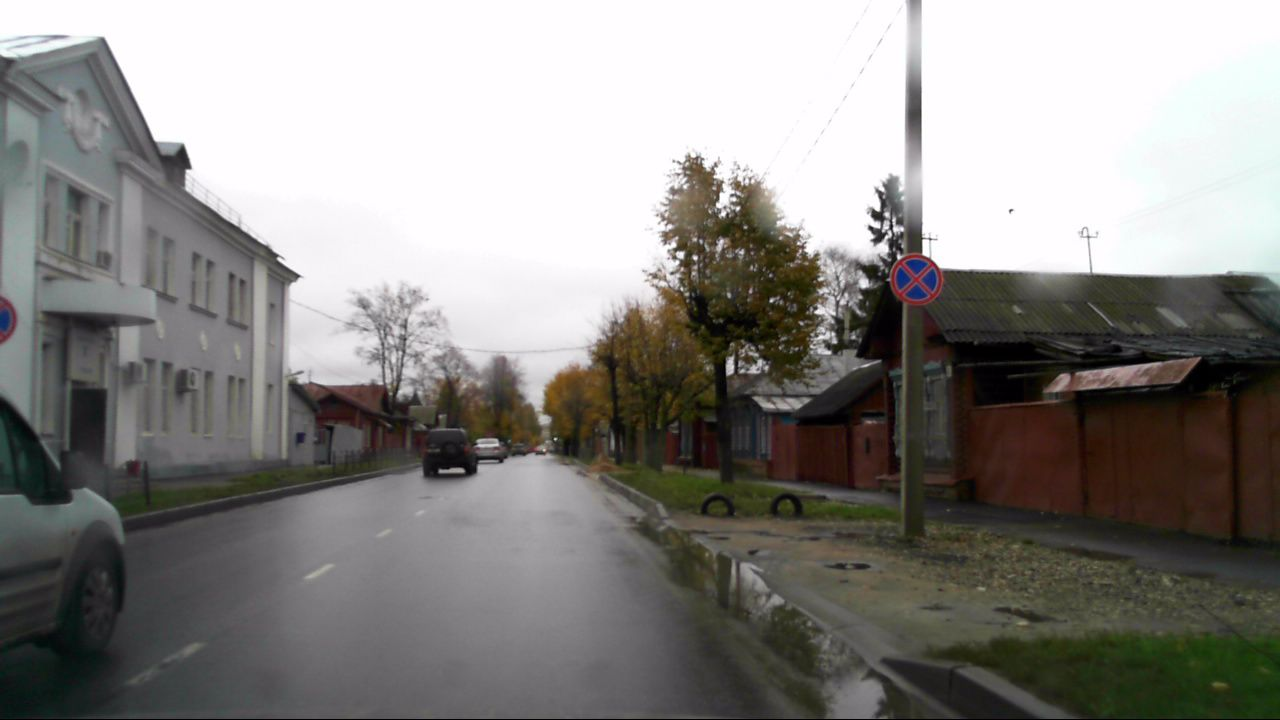No Parking: (891, 254, 943, 305)
